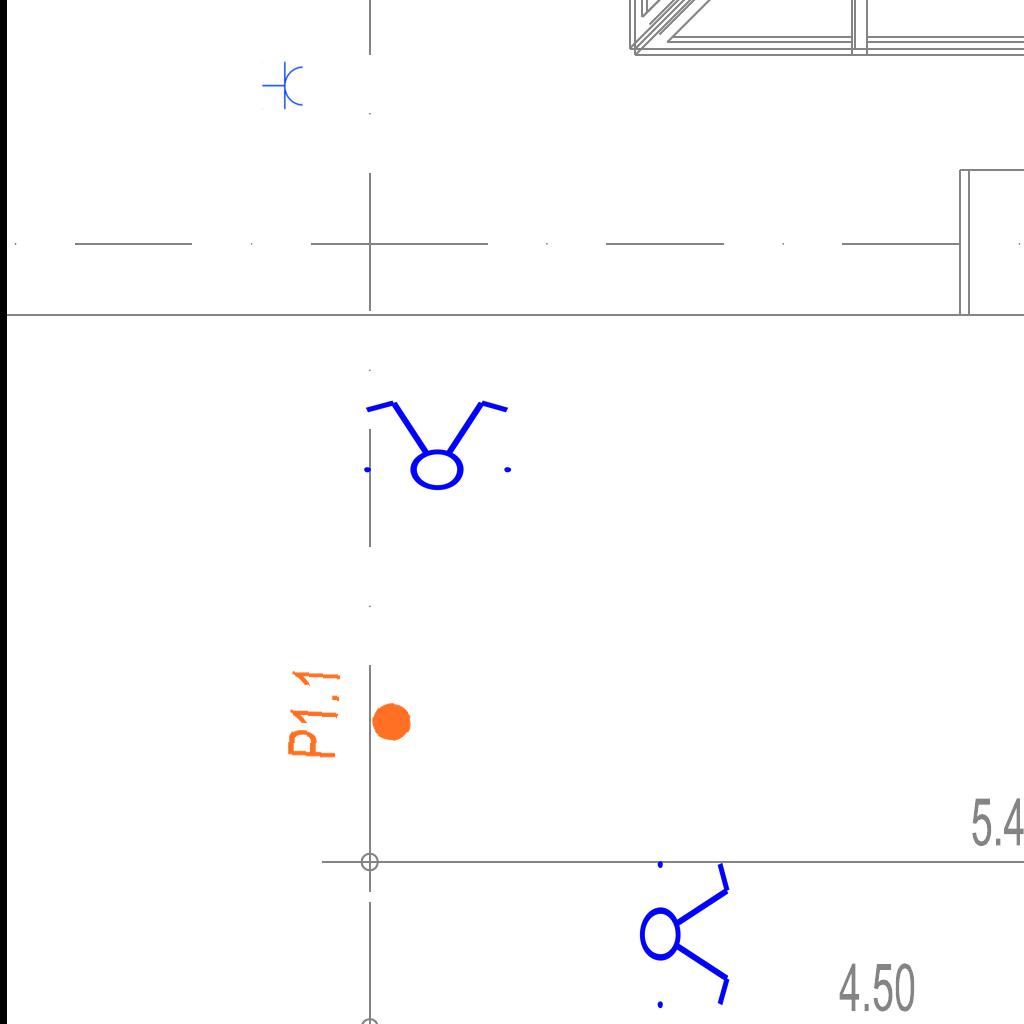Downlight_LED_Einbauleuchten_Flur: (283, 665, 418, 767)
Schukosteckdose_einfach: (262, 61, 305, 111)
Serienschalter: (352, 396, 520, 492), (638, 849, 734, 1017)
